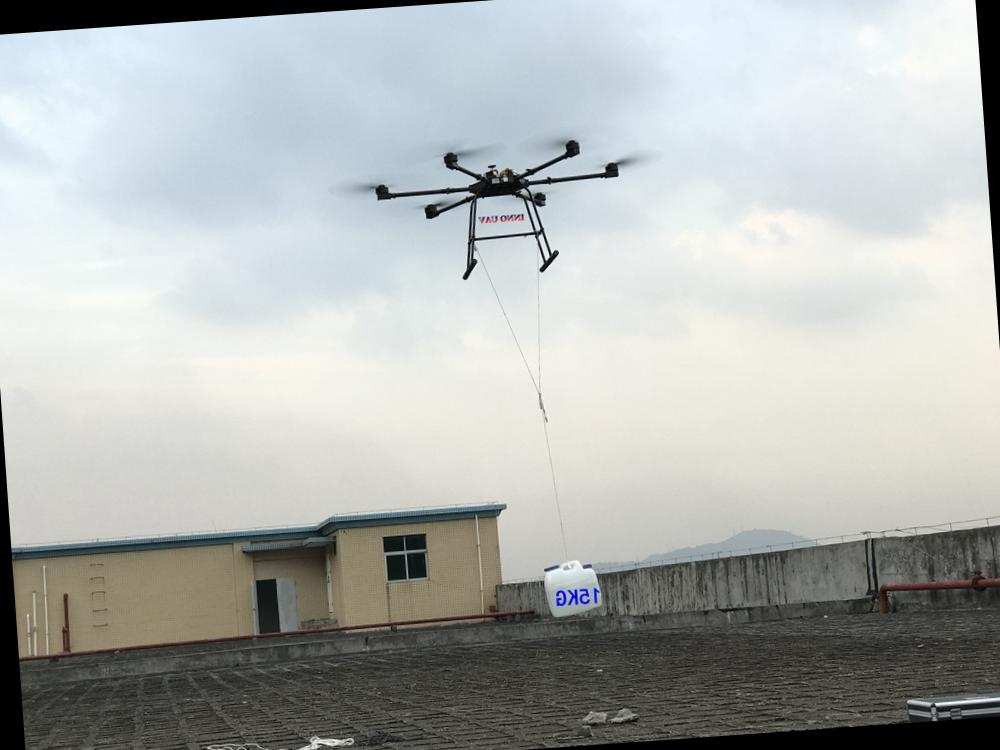drone: (347, 108, 656, 278)
